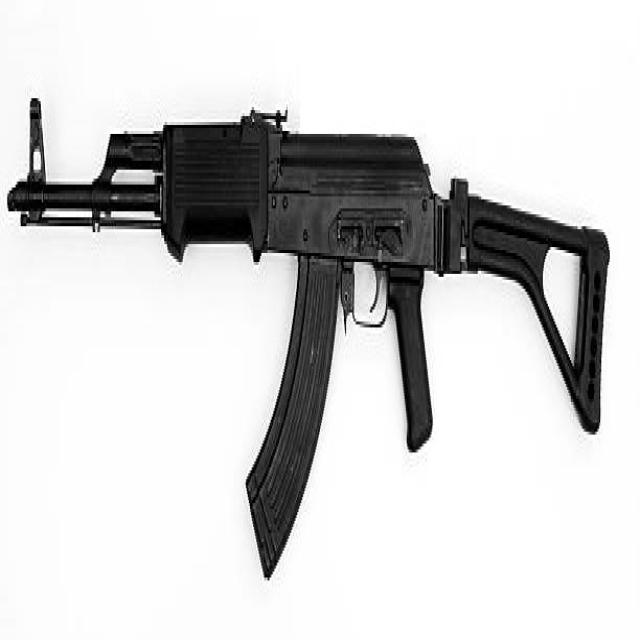rifle: (6, 73, 614, 621)
